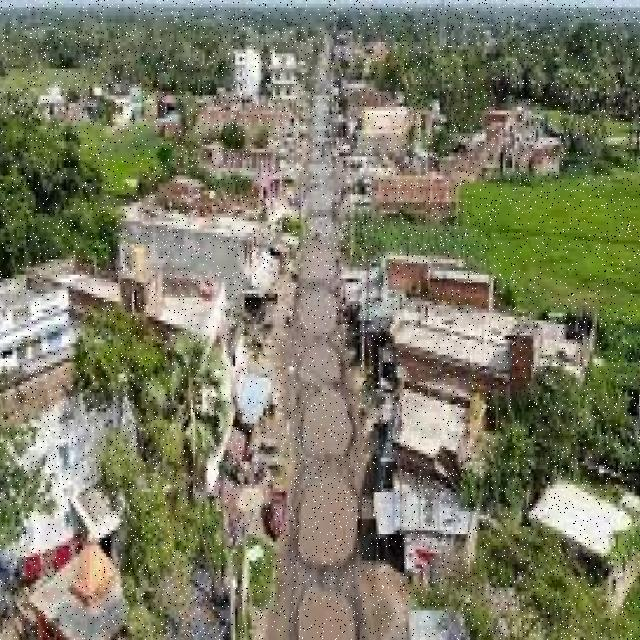pothole: (296, 477, 357, 565), (301, 393, 350, 458), (296, 588, 357, 640), (301, 290, 334, 332), (306, 347, 339, 382)
